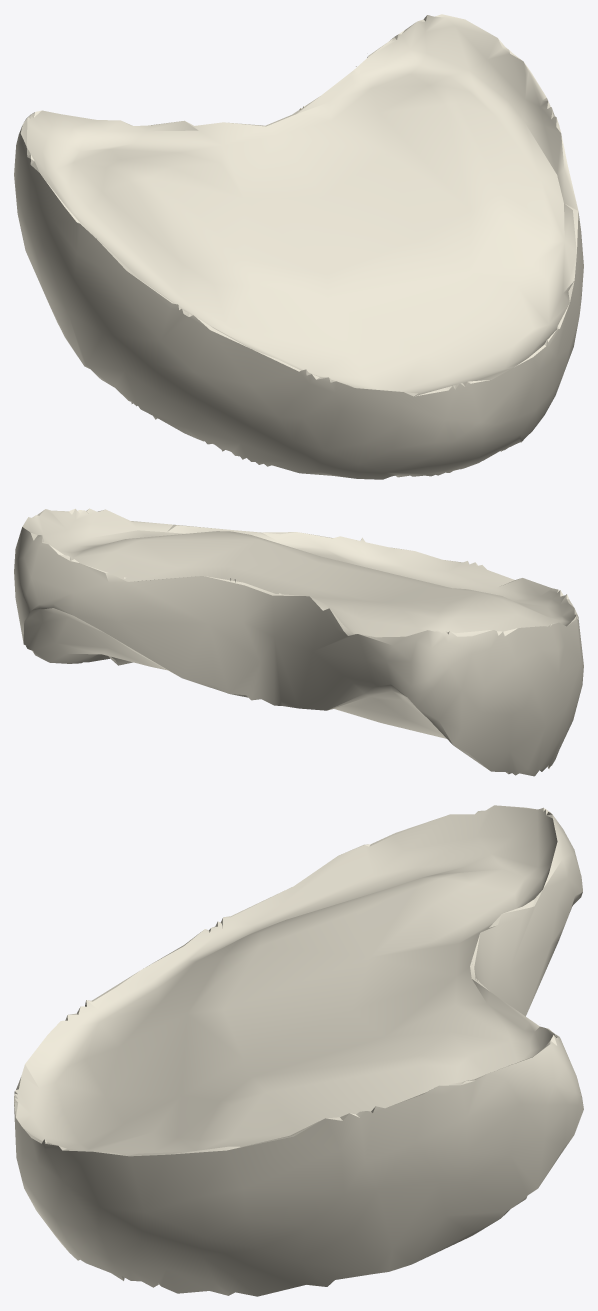
File: fma13500_fj3224.glb
The picture shows the model from 3 angles, top to bottom: view 1: azimuth 30°, elevation 25°; view 2: azimuth 150°, elevation 25°; view 3: azimuth 270°, elevation 25°; orthographic projection. The views are drawn at different scales.
Parts seen in each view (by area): view 1: FMA13500_FJ3224; view 2: FMA13500_FJ3224; view 3: FMA13500_FJ3224.
Boxes of the visible parts, left/top/right/bottom form: FMA13500_FJ3224: left=14, top=14, right=583, bottom=479; FMA13500_FJ3224: left=14, top=508, right=583, bottom=776; FMA13500_FJ3224: left=14, top=805, right=583, bottom=1296.
Bounding box in the file's own units: 0.0298 × 0.0147 × 0.0259.
